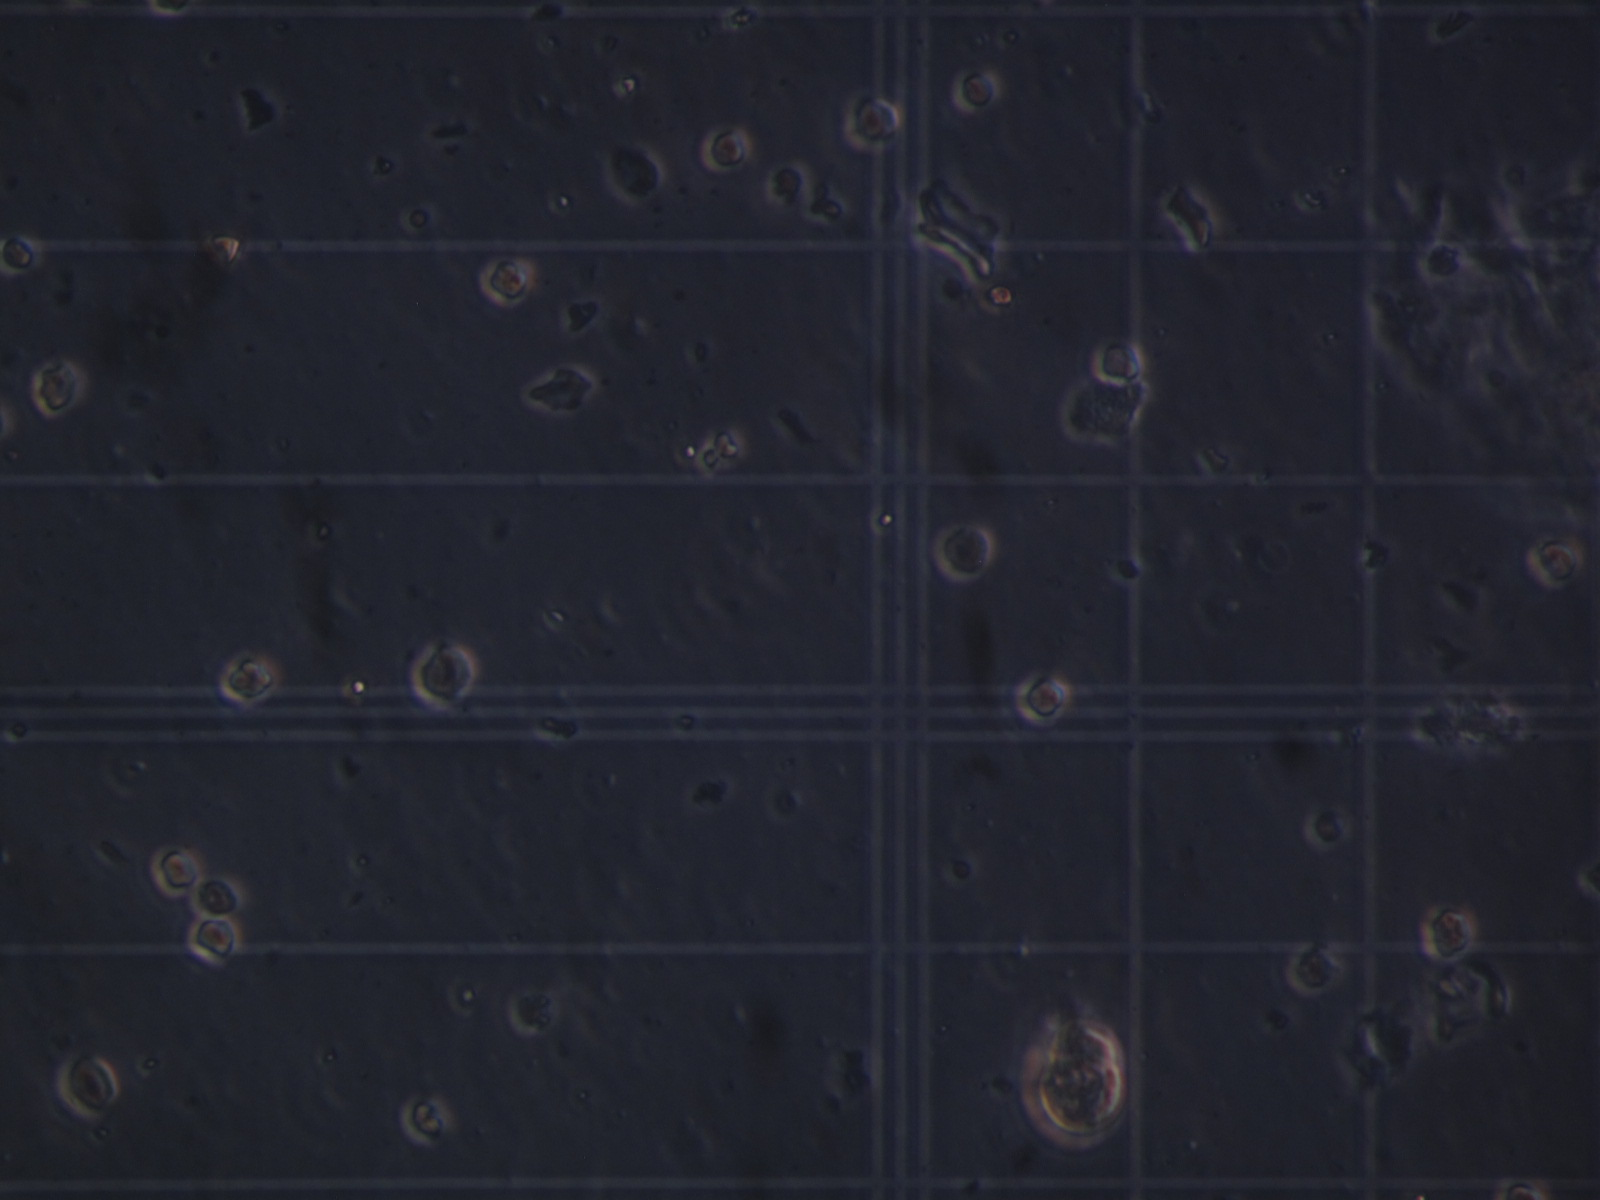hemo: (407, 640, 475, 711), (55, 1054, 121, 1123), (930, 518, 994, 586), (523, 362, 597, 416), (844, 89, 903, 153), (1526, 536, 1587, 590), (1421, 903, 1474, 966), (1286, 940, 1344, 997), (37, 358, 87, 421), (477, 252, 534, 308), (219, 654, 280, 706), (1014, 674, 1070, 729), (188, 916, 242, 971), (1091, 337, 1146, 387), (188, 872, 246, 920), (151, 845, 202, 899), (1303, 800, 1356, 850), (952, 66, 1002, 115), (703, 125, 753, 173), (766, 160, 809, 211), (1, 233, 43, 279)
